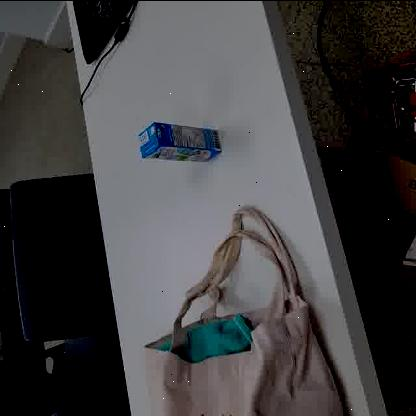Others: (132, 120, 230, 164)
